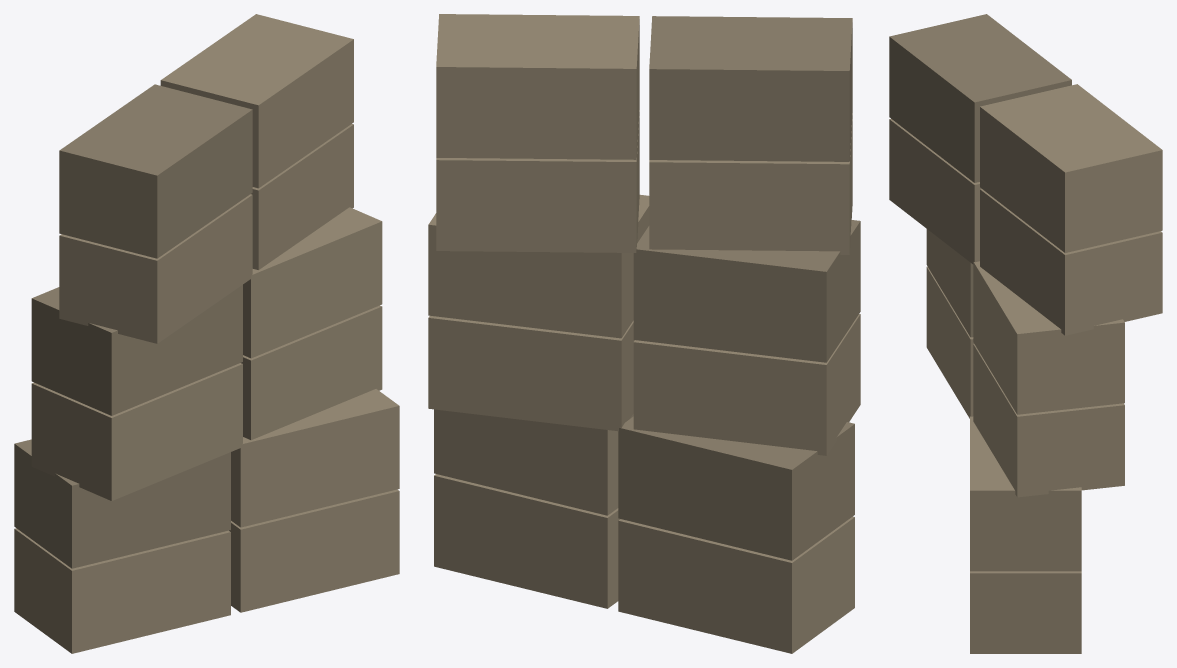
The model's file is Block_Tuff.fbx.
The picture shows the model from 3 angles, left to right: view 1: azimuth 30°, elevation 25°; view 2: azimuth 150°, elevation 25°; view 3: azimuth 270°, elevation 25°; orthographic projection. The views are drawn at different scales.
Visible parts, largest first — view 1: Block_Tuff__Stack, Block_Tuff; view 2: Block_Tuff__Stack, Block_Tuff; view 3: Block_Tuff__Stack, Block_Tuff.
Part boxes in pixels (box(x1,y1,x2,y2)): Block_Tuff__Stack: box(15, 14, 399, 653); Block_Tuff: box(14, 415, 312, 653); Block_Tuff__Stack: box(428, 14, 860, 516); Block_Tuff: box(434, 409, 854, 653); Block_Tuff__Stack: box(889, 14, 1162, 653); Block_Tuff: box(970, 416, 1081, 653).
Size of the model in its own units: 0.1722 by 0.2398 by 0.123.
